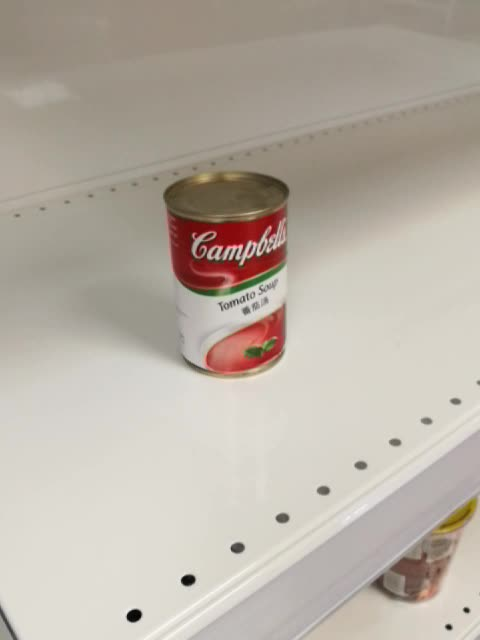tomatosoup: (162, 169, 291, 380)
